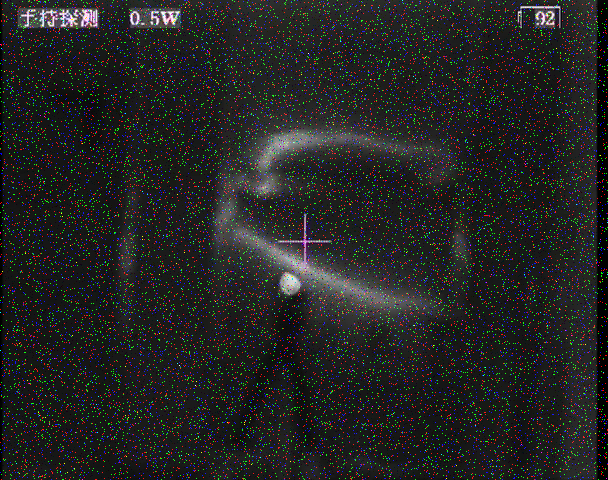my: (278, 269, 304, 295)
